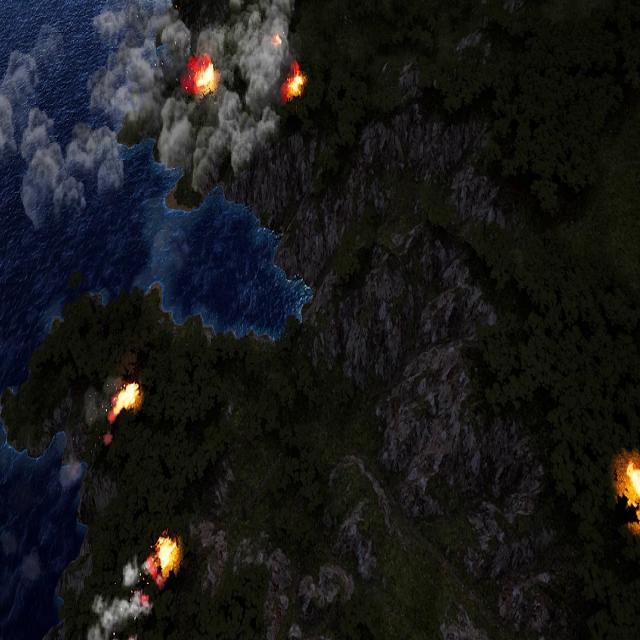fire: (190, 58, 217, 98), (154, 535, 180, 576), (111, 383, 139, 421), (282, 67, 304, 102), (626, 457, 640, 510), (273, 32, 282, 47)
smoke: (3, 0, 303, 223), (58, 376, 118, 501), (81, 554, 153, 639)
